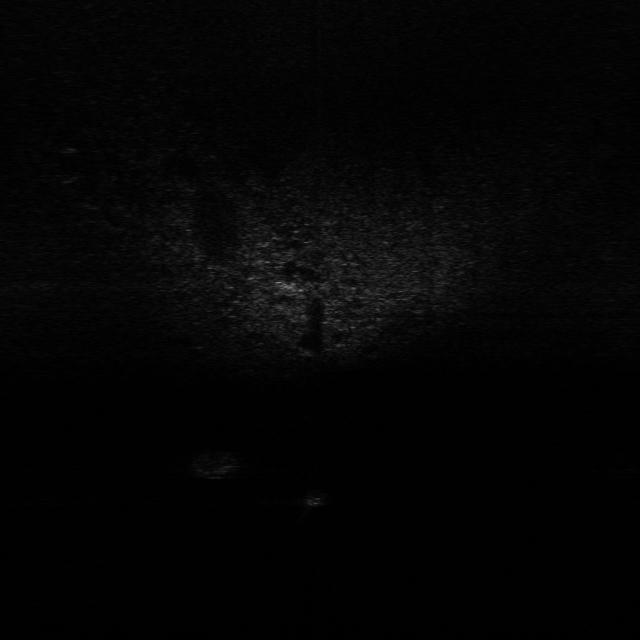circle cage: (190, 447, 248, 481)
cylinder: (304, 488, 328, 520)
